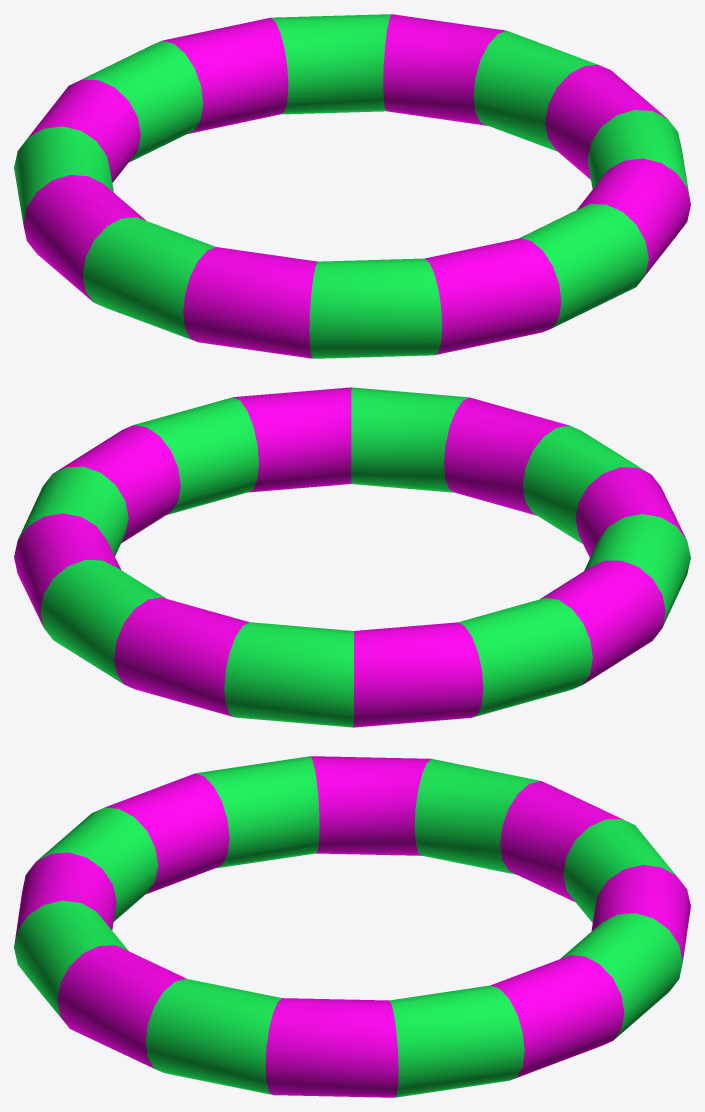
The model's file is ETC0610051.fbx.
3 renders of one model, top to bottom at view 1: azimuth 30°, elevation 25°; view 2: azimuth 150°, elevation 25°; view 3: azimuth 270°, elevation 25°, orthographic.
Visible parts, largest first — view 1: smETC0610051; view 2: smETC0610051; view 3: smETC0610051.
Part boxes in pixels (x1,y1,x2,y2): smETC0610051: [14, 14, 690, 358]; smETC0610051: [14, 387, 690, 727]; smETC0610051: [14, 756, 690, 1097].
Size of the model in its own units: 119 by 17.65 by 119.
1 material, 1 textured.
